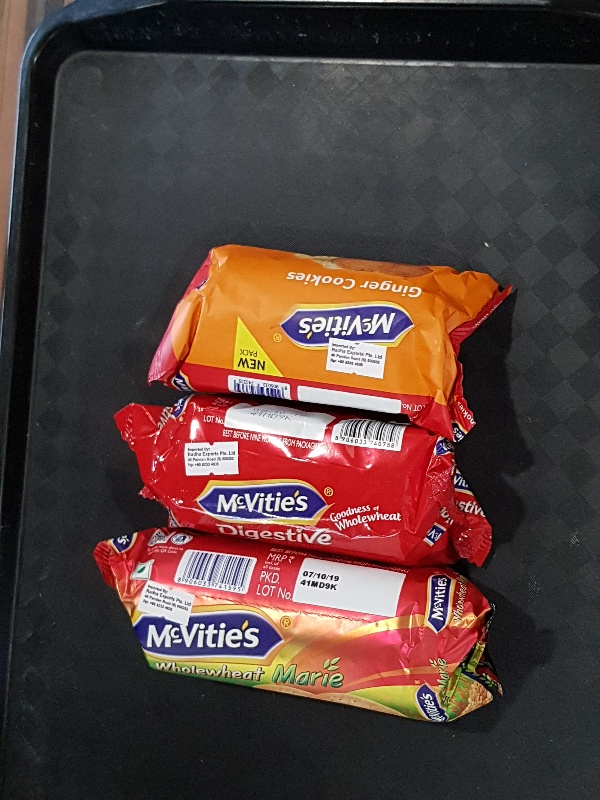McVitie's Ginger Cookies: (144, 241, 514, 438)
McVitie's Wholewheat Marie: (91, 527, 503, 725)
Mcvitie's Digestive: (110, 392, 493, 568)
